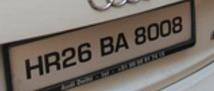0: (158, 17, 171, 36), (146, 20, 158, 40)
2: (59, 45, 77, 69)
6: (76, 40, 92, 62)
8: (133, 25, 146, 44), (170, 14, 183, 33)
A: (114, 30, 129, 51)
B: (98, 35, 113, 56)
H: (23, 54, 44, 79)
R: (42, 50, 61, 74)
